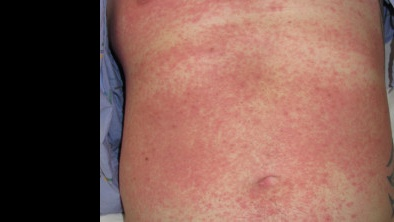SJS-TEN: (106, 0, 394, 222)
